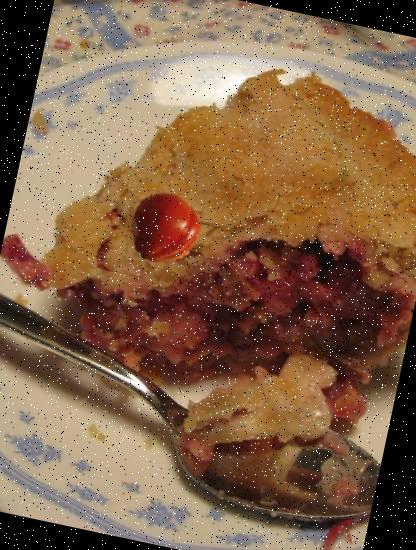Tomato: (122, 186, 206, 270)
